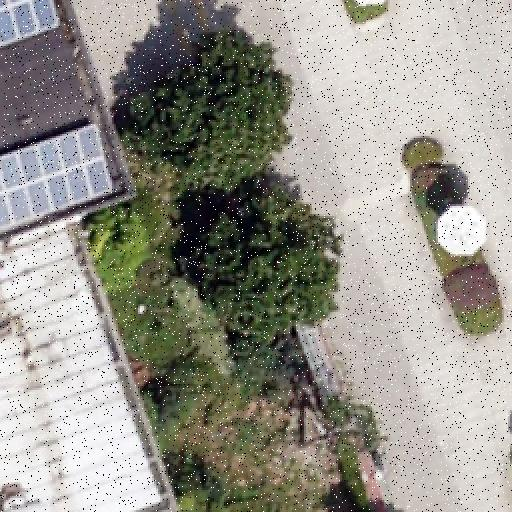solar-panel: (0, 124, 112, 232), (1, 0, 63, 48)
